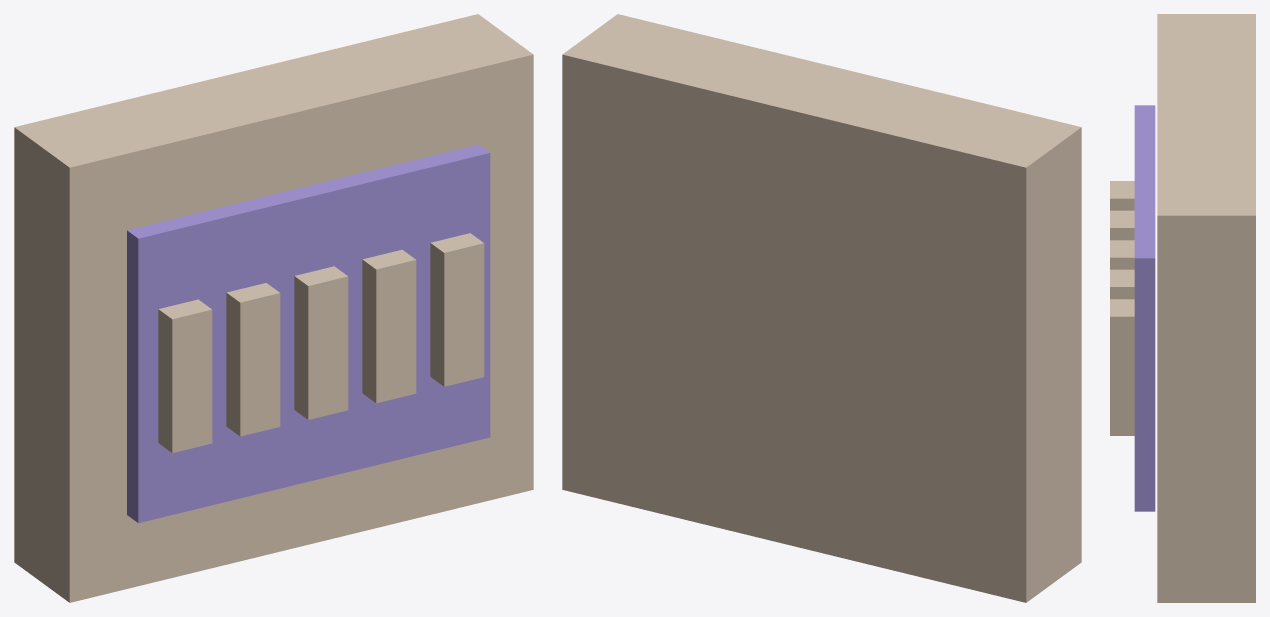
File: panel.gltf
The picture shows the model from 3 angles, left to right: view 1: azimuth 30°, elevation 25°; view 2: azimuth 150°, elevation 25°; view 3: azimuth 270°, elevation 25°; orthographic projection. The views are drawn at different scales.
Parts seen in each view (by area): view 1: housing, opening, breaker_1, breaker_2, breaker_4, breaker_3, breaker_0; view 2: housing; view 3: housing, opening, breaker_4, breaker_1, breaker_3, breaker_0, breaker_2.
Part boxes in pixels (x1=…): housing: x1=14, y1=14, x2=533, y2=602; opening: x1=127, y1=144, x2=490, y2=523; breaker_1: x1=226, y1=283, x2=280, y2=436; breaker_2: x1=294, y1=266, x2=348, y2=419; breaker_4: x1=430, y1=233, x2=484, y2=386; breaker_3: x1=362, y1=249, x2=416, y2=403; breaker_0: x1=158, y1=299, x2=212, y2=452; housing: x1=562, y1=14, x2=1081, y2=602; housing: x1=1157, y1=14, x2=1255, y2=602; opening: x1=1134, y1=105, x2=1155, y2=511; breaker_4: x1=1110, y1=299, x2=1134, y2=435; breaker_1: x1=1110, y1=210, x2=1134, y2=240; breaker_3: x1=1110, y1=269, x2=1134, y2=299; breaker_0: x1=1110, y1=181, x2=1134, y2=210; breaker_2: x1=1110, y1=240, x2=1134, y2=269.
Bounding box in the file's own units: 0.58 × 0.52 × 0.1775.
